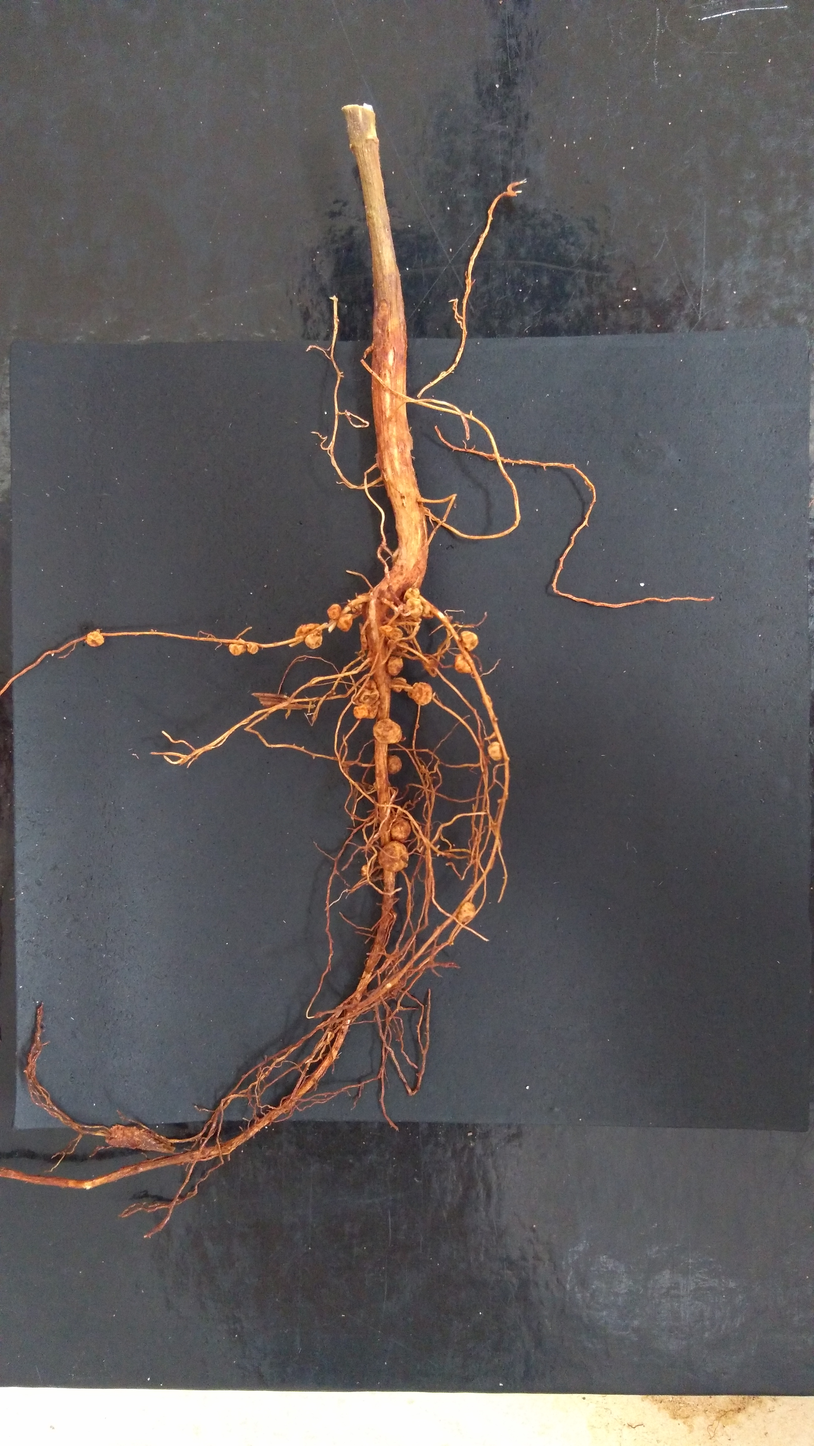nodule: (377, 838, 410, 873), (372, 717, 402, 745), (410, 681, 433, 706), (390, 816, 411, 843), (359, 678, 379, 705), (293, 622, 322, 638), (456, 901, 476, 923), (460, 630, 479, 653), (454, 653, 473, 675), (487, 739, 505, 762), (83, 630, 107, 647), (386, 655, 404, 677), (407, 598, 423, 622), (336, 613, 355, 633), (386, 637, 409, 652), (388, 676, 407, 694), (226, 641, 247, 657), (387, 754, 403, 775), (304, 632, 323, 648), (403, 585, 420, 601), (326, 603, 341, 621), (364, 702, 379, 719), (352, 705, 368, 719), (245, 642, 260, 656), (380, 622, 394, 637), (387, 627, 403, 638), (422, 603, 433, 619), (481, 694, 493, 708), (360, 863, 369, 878), (354, 602, 362, 613), (420, 764, 427, 774), (351, 606, 357, 614), (415, 724, 420, 730)
